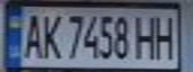4: (81, 11, 100, 60)
5: (96, 11, 115, 60)
7: (63, 11, 84, 60)
8: (112, 12, 133, 61)
A: (21, 10, 45, 60)
H: (133, 11, 160, 61), (151, 11, 178, 60)
K: (36, 10, 63, 60)
